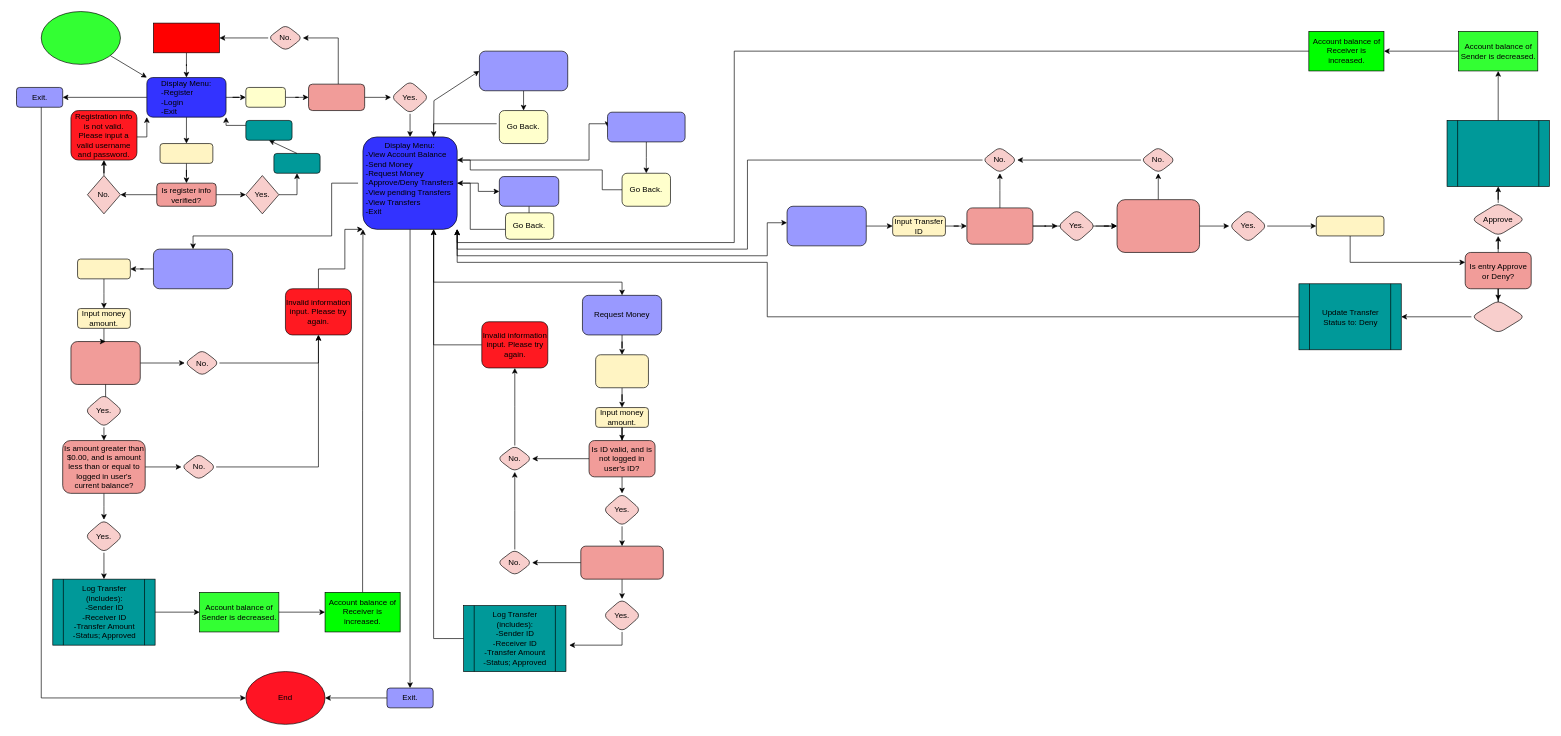
This 1561x736 diagram has some shape labels left out. The shapes that lost their labels are listed below. From the top down, each one's centre as x and y in pixels, then its label:
(80,37): Start
(186,37): Invalid login info. Please input valid login info.
(523,70): View Account Balance
(265,97): Input login info
(336,97): Is login info verified?
(268,130): Account created.
(646,127): View Transfer History
(186,153): Input register info
(296,163): User registered.
(1497,153): Update Transfer Status to: Approved
(529,191): View Pending Transfers
(826,226): Approve Transfers
(999,225): Is Transfer ID valid?
(1158,225): Is amount of transfer less than logged in user's current balance?
(1350,225): Approve or Deny
(103,268): Input account of receiver ID
(193,268): Send Money
(1498,316): Deny
(105,362): Is receiver ID valid, and is not logged in user's ID?
(621,371): Input sender account ID
(621,562): Is amount greater than $0.00?
